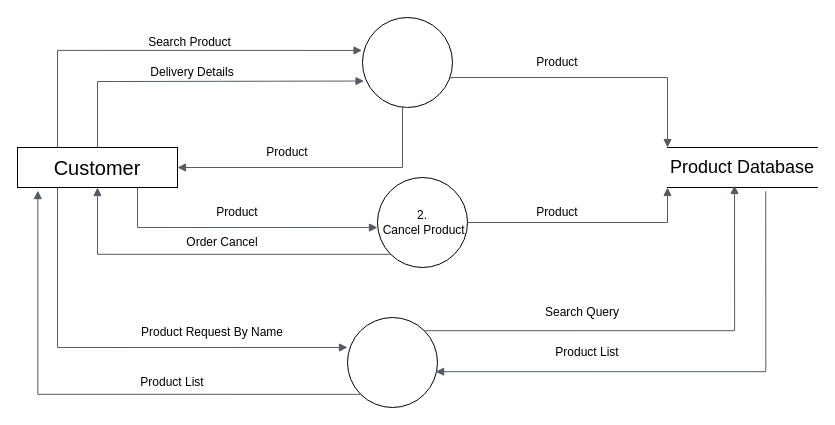
Some shapes in this 835 by 425 pixel diagram are drawn without their labels. Here are the shapes that lost their labels. From the top down, the centre of each, then its label:
At (407,62): "1. Buy Product".
At (392,362): "3. Search Product".
